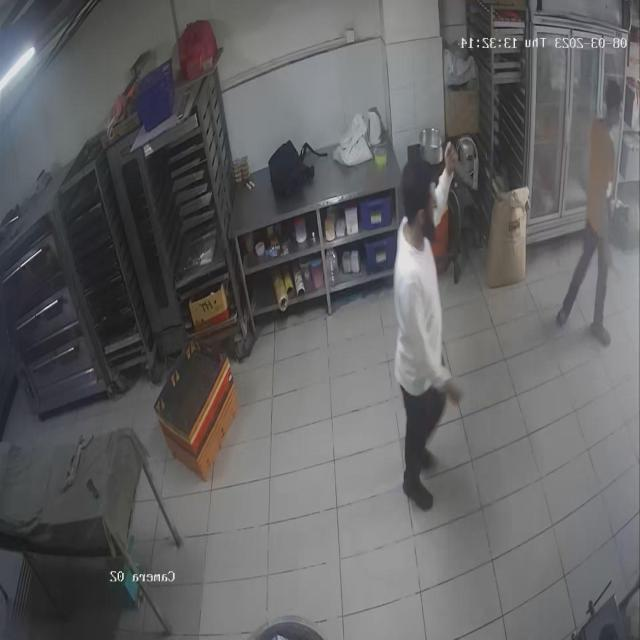Knife: (441, 126, 480, 191)
